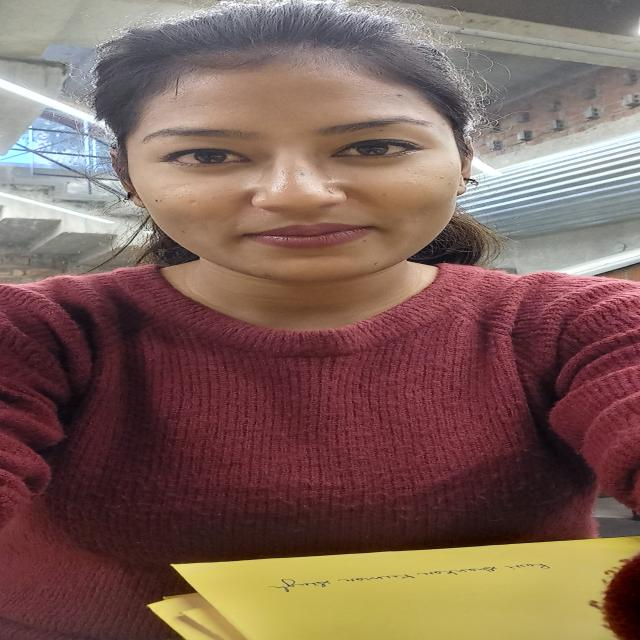Spots: (292, 160, 316, 182), (145, 197, 173, 207), (380, 90, 407, 100)
